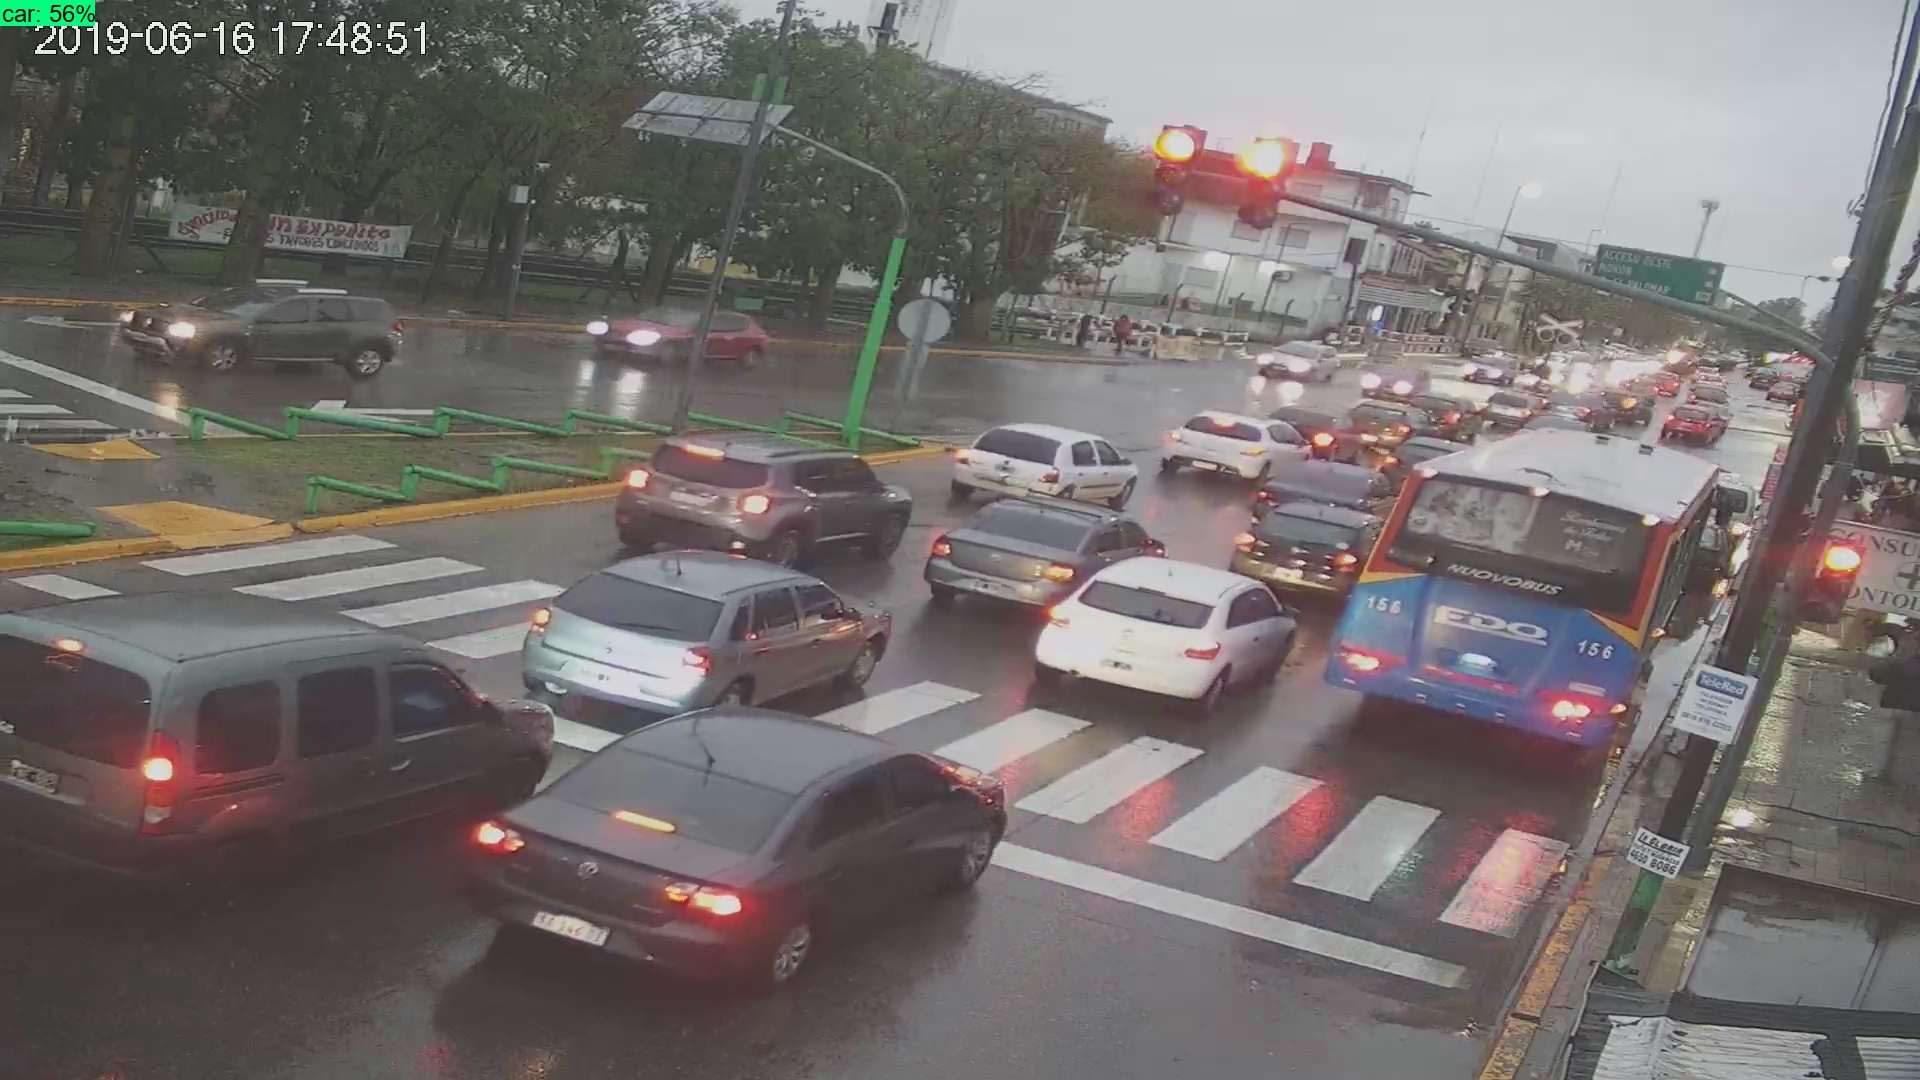bus: (1316, 419, 1727, 767)
car: (4, 578, 556, 911), (450, 686, 1015, 993), (512, 539, 902, 731), (1025, 546, 1309, 723), (607, 429, 923, 584), (102, 266, 419, 392), (915, 483, 1164, 626), (943, 409, 1143, 516), (578, 291, 775, 382), (1240, 500, 1381, 604), (1156, 402, 1320, 488)
